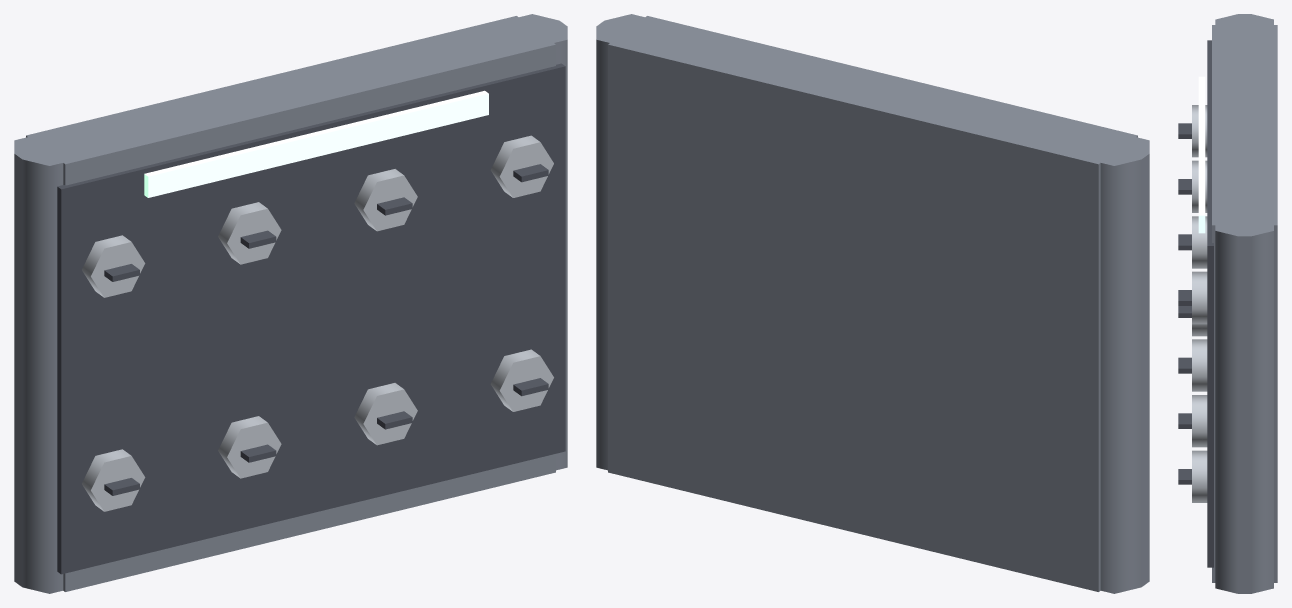
Rendered from prop_bolt_panel.glb.
3 views of the same model, side by side, from view 1: azimuth 30°, elevation 25°; view 2: azimuth 150°, elevation 25°; view 3: azimuth 270°, elevation 25° (orthographic). The views are drawn at different scales.
Parts seen in each view (by area): view 1: prop_bolt_panel, torque_indicator, bolt_1, bolt_5, bolt_2, bolt_3, bolt_4, bolt_7, bolt_8, bolt_6; view 2: prop_bolt_panel; view 3: prop_bolt_panel, torque_indicator, bolt_2, bolt_8, bolt_3, bolt_4, bolt_7, bolt_5, bolt_6, bolt_1.
Part boxes in pixels (x1,y1,x2,y2): prop_bolt_panel: (14,14,567,593); torque_indicator: (144,90,488,197); bolt_1: (82,449,145,511); bolt_5: (82,235,145,297); bolt_2: (218,416,281,478); bolt_3: (354,383,417,445); bolt_4: (490,349,553,411); bolt_7: (354,169,417,231); bolt_8: (490,135,553,197); bolt_6: (218,202,281,264); prop_bolt_panel: (596,14,1149,593); prop_bolt_panel: (1207,14,1277,593); torque_indicator: (1198,76,1205,233); bolt_2: (1178,339,1207,391); bolt_8: (1178,271,1207,324); bolt_3: (1178,395,1207,447); bolt_4: (1178,450,1207,502); bolt_7: (1178,216,1207,268); bolt_5: (1178,105,1207,157); bolt_6: (1178,160,1207,212); bolt_1: (1178,306,1207,336).
Size of the model in its own units: 0.8 by 0.6 by 0.151.
